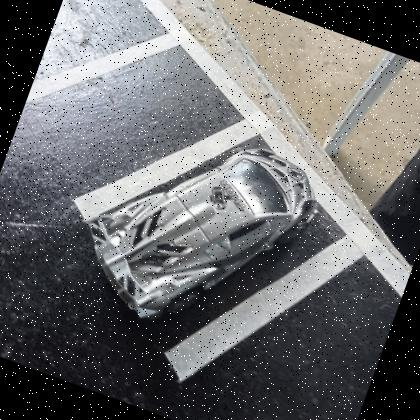Car: (86, 147, 315, 322)
